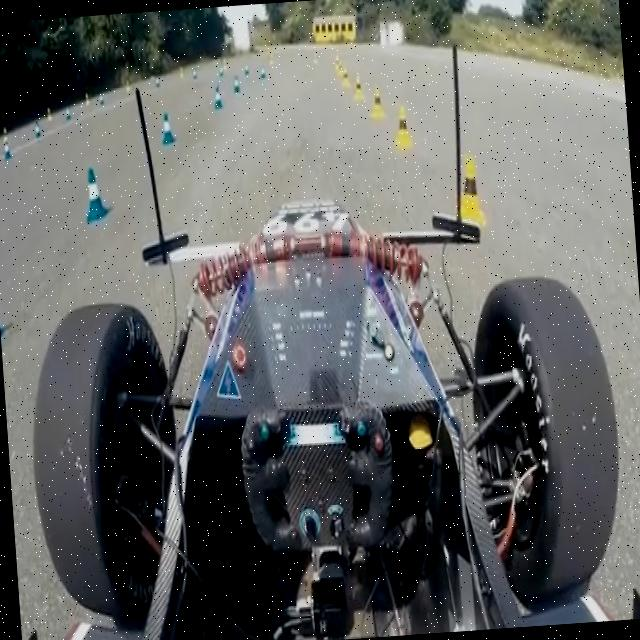blue_cone: (78, 164, 109, 224), (160, 112, 177, 146), (212, 83, 224, 110), (2, 142, 12, 160), (232, 75, 242, 92), (258, 64, 266, 79), (34, 121, 41, 138), (64, 106, 72, 120), (154, 74, 161, 90), (243, 62, 250, 76), (98, 92, 105, 106), (218, 66, 224, 78), (192, 66, 198, 78)
yellow_cone: (450, 154, 489, 232), (390, 106, 414, 154), (367, 84, 387, 120), (350, 74, 367, 100), (340, 68, 350, 88), (336, 62, 344, 76), (332, 56, 340, 70), (124, 76, 130, 94), (45, 108, 53, 121), (2, 126, 8, 142), (84, 92, 90, 105)
